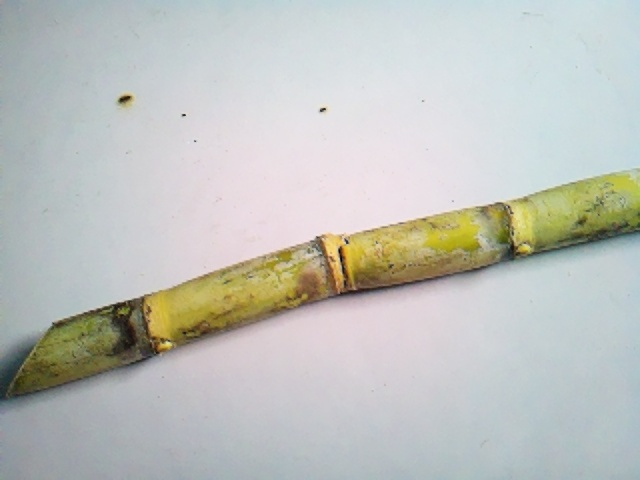Good Sugarcane: (3, 166, 640, 397)
Node: (134, 285, 176, 364), (494, 193, 535, 266), (319, 230, 358, 301)
